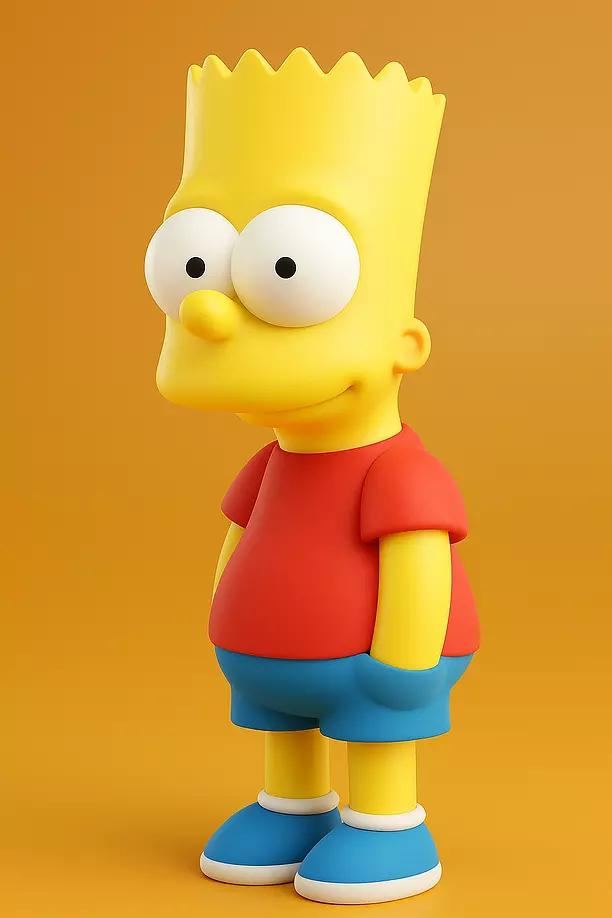Bart: (72, 26, 554, 918)
